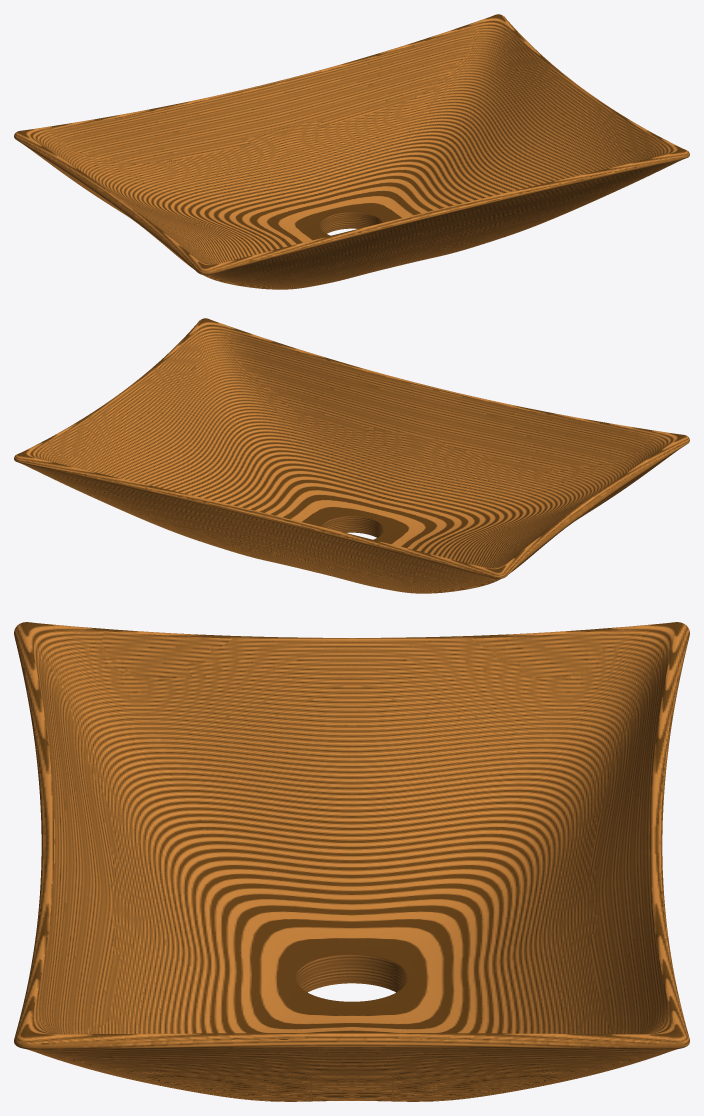
Rendered from Заготовка5.glb.
3 views of the same model, one above another, from view 1: azimuth 30°, elevation 25°; view 2: azimuth 150°, elevation 25°; view 3: azimuth 270°, elevation 25° (orthographic). The views are drawn at different scales.
Parts seen in each view (by area): view 1: Solid_293; view 2: Solid_293; view 3: Solid_293.
Part boxes in pixels (bbox=[...]): Solid_293: bbox=[14, 14, 689, 289]; Solid_293: bbox=[14, 318, 689, 593]; Solid_293: bbox=[14, 622, 689, 1101].
Size of the model in its own units: 622 by 122 by 421.
1 material, 1 textured.
